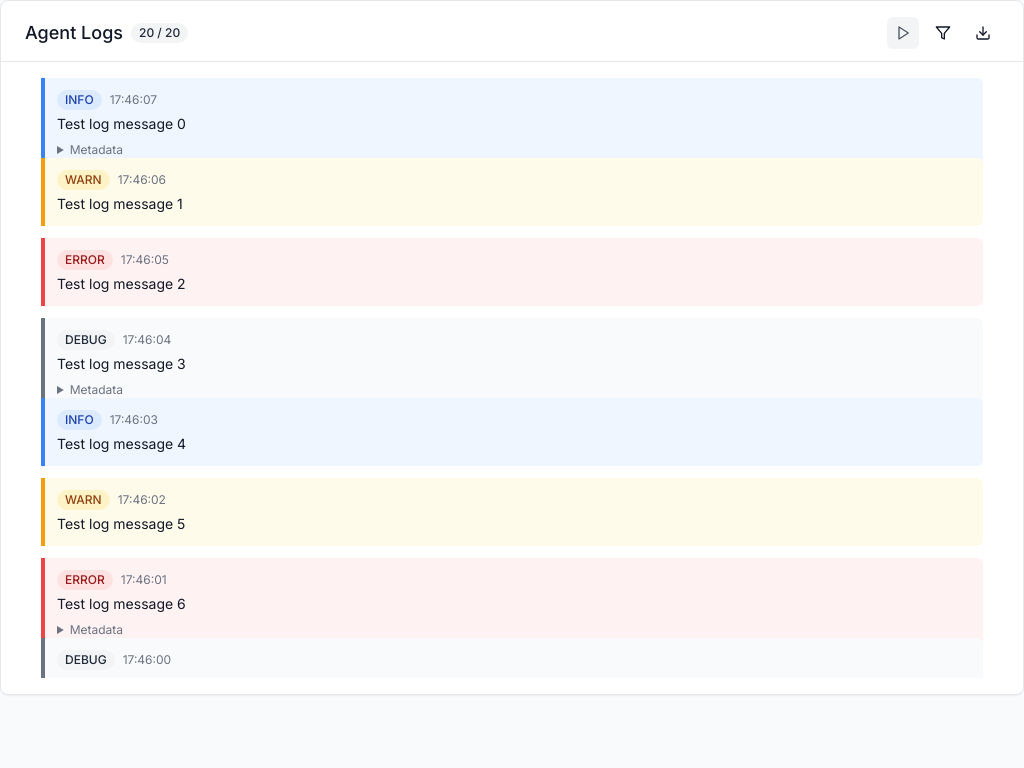
VirtualizedLogViewer - Performance Enhancement › Advanced Search and Filtering › should filter by log level
# First click the filter toggle to show the filter options
Click the button named "Toggle filters". click: x=943, y=33
box: [927,17,959,49]
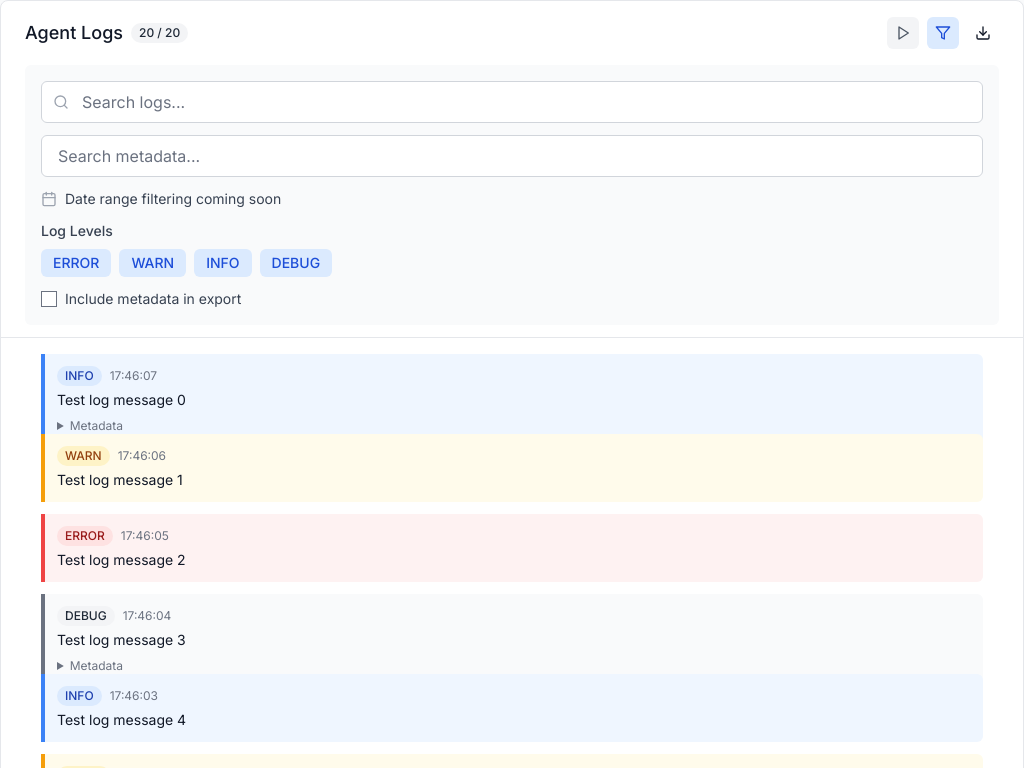
Check: the text with test id "filtered-count" reads "20 / 20", box [131,23,188,43]
# Click error filter to remove error logs from view
Click the button with test id "filter-error". click: x=76, y=263
box: [41,249,111,277]
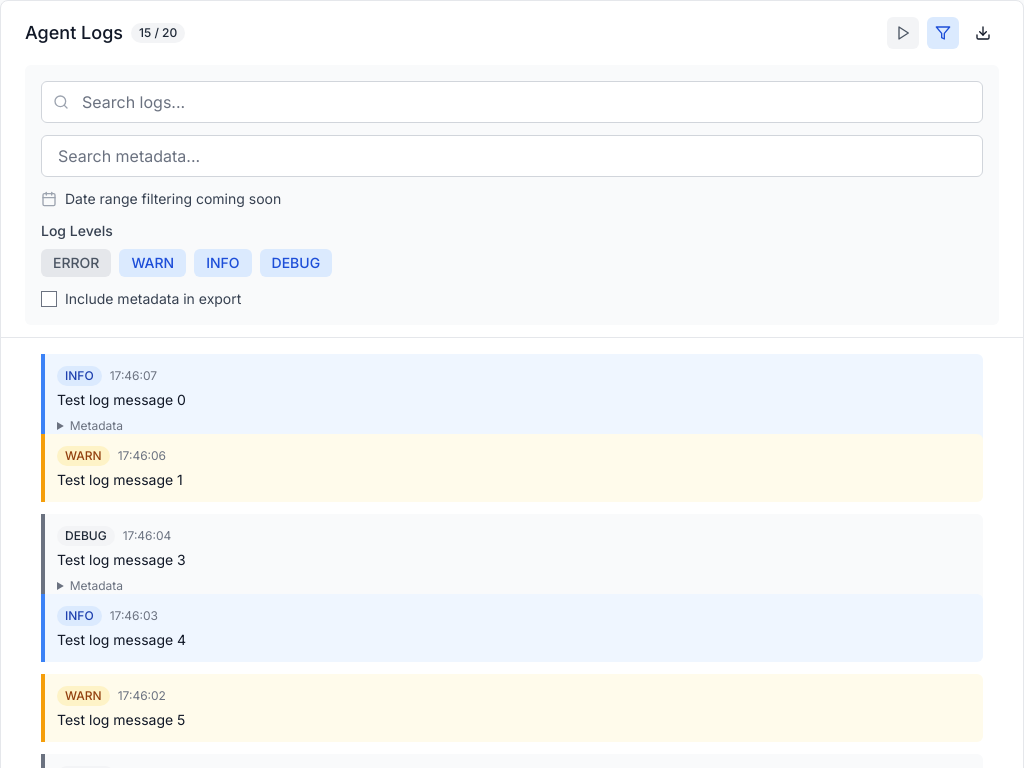
Check: the text with test id "filtered-count" reads "15 / 20", box [131,23,185,43]
